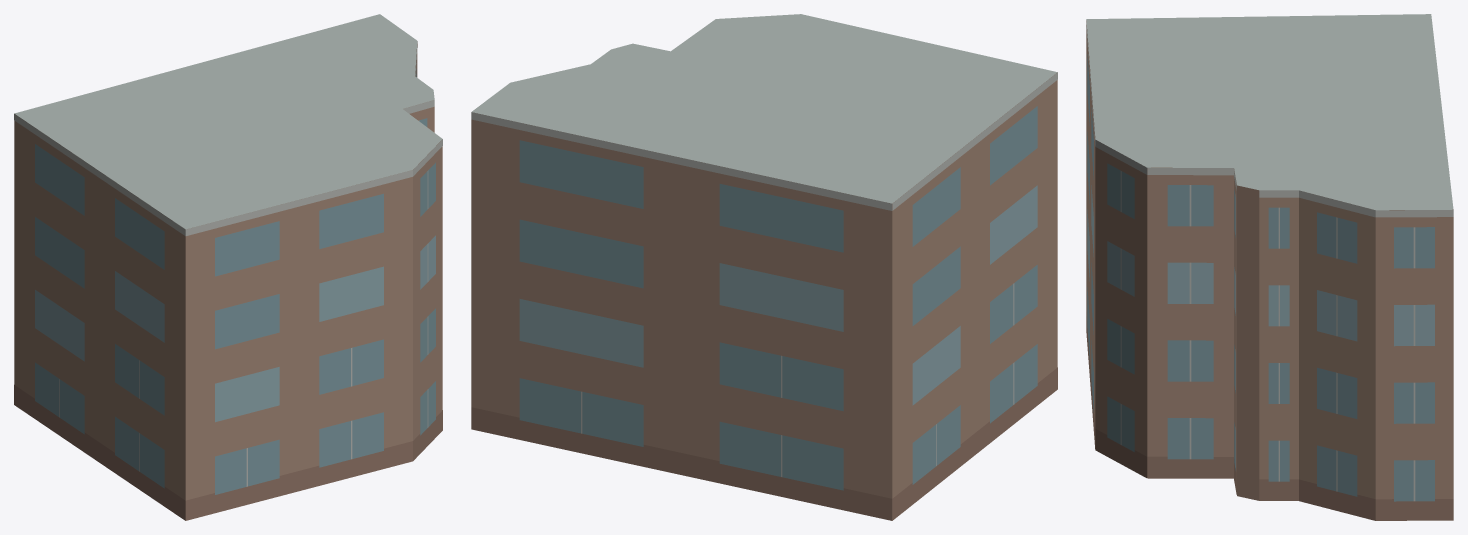
Rendered from survey-upis-32810944.glb.
The picture shows the model from 3 angles, left to right: view 1: azimuth 30°, elevation 25°; view 2: azimuth 150°, elevation 25°; view 3: azimuth 270°, elevation 25°; orthographic projection. The views are drawn at different scales.
Visible parts, largest first — view 1: survey-upis-32810944.tmp; view 2: survey-upis-32810944.tmp; view 3: survey-upis-32810944.tmp.
Boxes of the visible parts, x1,y1,x2,y2 form: survey-upis-32810944.tmp: (14,14,442,520); survey-upis-32810944.tmp: (471,14,1057,520); survey-upis-32810944.tmp: (1086,14,1453,520).
Size of the model in its own units: 14.09 by 10.4 by 11.15.
